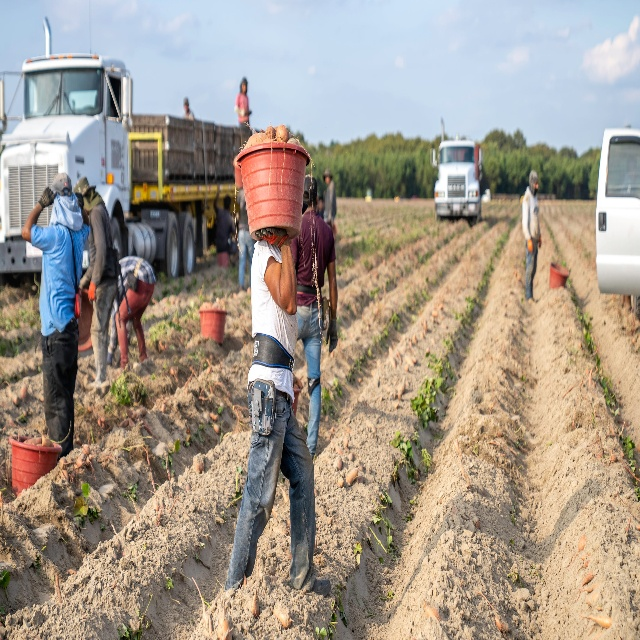Guantes: (256, 228, 287, 246), (325, 319, 339, 354), (39, 186, 56, 206), (87, 282, 96, 304), (526, 238, 533, 253), (537, 232, 542, 248)
